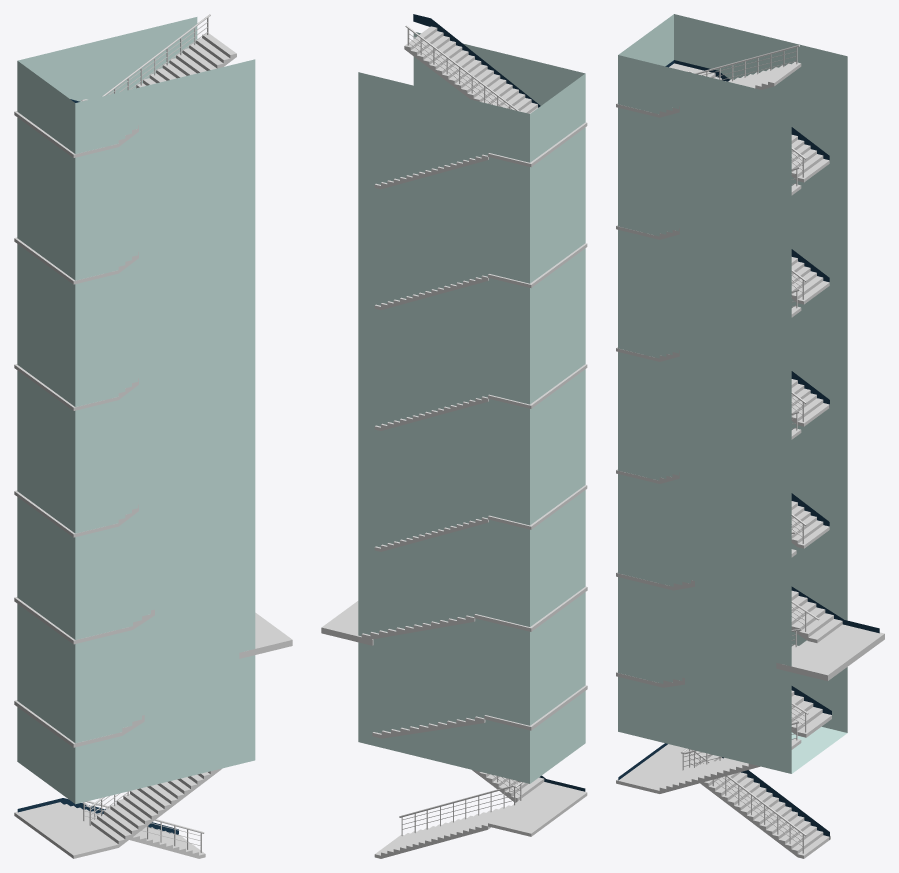
File: UTypeStair_02.fbx
3 renders of one model, left to right at view 1: azimuth 30°, elevation 25°; view 2: azimuth 150°, elevation 25°; view 3: azimuth 330°, elevation 25°, orthographic. The views are drawn at different scales.
Parts seen in each view (by area): view 1: Srair_Passage_L, UTypeStair_B2F_01, UTypeStair_4F01, Stair_Floor_B1F001, UTypeStair_B1_b01, UTypeStair_B1_a01, Stair_Fence_B2F_01, UTypeStair_1F01, UTypeStair_3F01, UTypeStair_2F01, Stair_Fence_3F003; view 2: Srair_Passage_L, UTypeStair_B2F_01, UTypeStair_4F01, UTypeStair_B1_b01, UTypeStair_B1_a01, UTypeStair_2F01, UTypeStair_3F01, UTypeStair_1F01, Stair_Floor_B1F001, Stair_Fence_B2F_01, Stair_Fence_3F003; view 3: Srair_Passage_L, UTypeStair_B2F_01, Stair_Floor_B1F001, UTypeStair_4F01, UTypeStair_B1_b01, UTypeStair_B1_a01, UTypeStair_1F01, UTypeStair_2F01, UTypeStair_3F01, Stair_Fence_B2F_01, Stair_Fence_3F003.
Boxes of the visible parts, left/top/right/bottom form: Srair_Passage_L: left=17, top=17, right=255, bottom=834; UTypeStair_B2F_01: left=14, top=768, right=222, bottom=858; UTypeStair_4F01: left=14, top=14, right=236, bottom=157; Stair_Floor_B1F001: left=239, top=612, right=292, bottom=658; UTypeStair_B1_b01: left=14, top=597, right=154, bottom=644; UTypeStair_B1_a01: left=14, top=700, right=144, bottom=747; Stair_Fence_B2F_01: left=83, top=791, right=201, bottom=852; UTypeStair_1F01: left=14, top=490, right=138, bottom=537; UTypeStair_3F01: left=14, top=237, right=138, bottom=284; UTypeStair_2F01: left=14, top=364, right=138, bottom=410; Stair_Fence_3F003: left=109, top=17, right=208, bottom=94; Srair_Passage_L: left=358, top=14, right=585, bottom=791; UTypeStair_B2F_01: left=374, top=770, right=587, bottom=858; UTypeStair_4F01: left=374, top=25, right=587, bottom=189; UTypeStair_B1_b01: left=361, top=586, right=587, bottom=639; UTypeStair_B1_a01: left=372, top=685, right=587, bottom=738; UTypeStair_2F01: left=374, top=364, right=587, bottom=430; UTypeStair_3F01: left=374, top=243, right=587, bottom=309; UTypeStair_1F01: left=374, top=485, right=587, bottom=551; Stair_Floor_B1F001: left=321, top=601, right=373, bottom=645; Stair_Fence_B2F_01: left=401, top=775, right=521, bottom=835; Stair_Fence_3F003: left=407, top=28, right=512, bottom=109; Srair_Passage_L: left=618, top=14, right=879, bottom=839; UTypeStair_B2F_01: left=616, top=721, right=830, bottom=858; Stair_Floor_B1F001: left=776, top=624, right=884, bottom=681; UTypeStair_4F01: left=616, top=45, right=829, bottom=182; UTypeStair_B1_b01: left=616, top=532, right=842, bottom=642; UTypeStair_B1_a01: left=616, top=628, right=831, bottom=737; UTypeStair_1F01: left=616, top=411, right=829, bottom=548; UTypeStair_2F01: left=616, top=289, right=829, bottom=426; UTypeStair_3F01: left=616, top=167, right=829, bottom=304; Stair_Fence_B2F_01: left=682, top=723, right=803, bottom=853; Stair_Fence_3F003: left=702, top=47, right=803, bottom=177.
Bounding box in the file's own units: 6.36 × 23.43 × 2.98.
